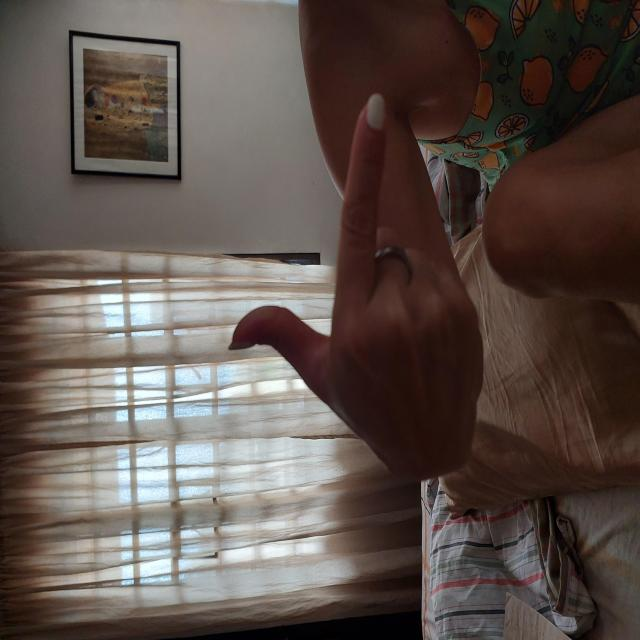G: (157, 225, 549, 486)
